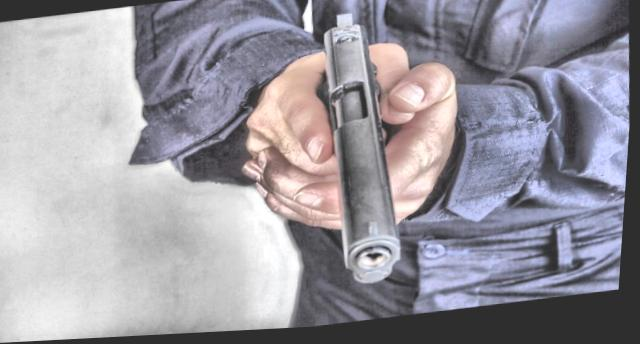pistol: (301, 3, 425, 304)
